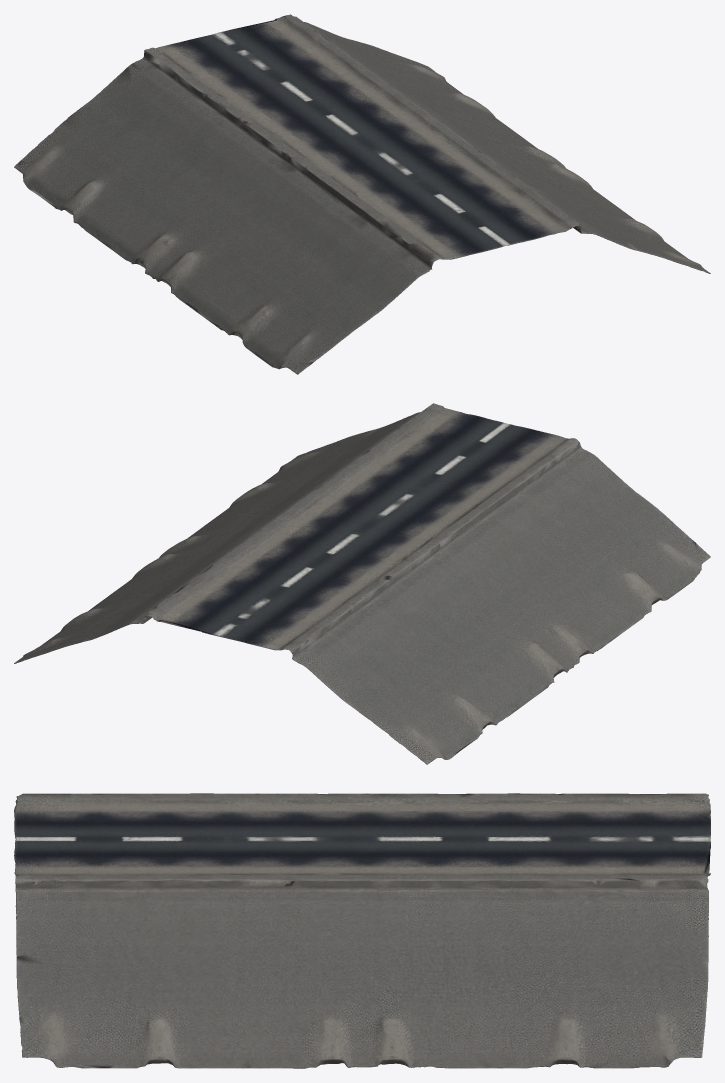
Rendered from segment-route-asphalte-abimee-v2.glb.
3 views of the same model, one above another, from view 1: azimuth 30°, elevation 25°; view 2: azimuth 150°, elevation 25°; view 3: azimuth 270°, elevation 25° (orthographic). The views are drawn at different scales.
Visible parts, largest first — view 1: Mesh_0.001; view 2: Mesh_0.001; view 3: Mesh_0.001.
Part boxes in pixels (x1,y1,x2,y2): Mesh_0.001: (14,14,710,374); Mesh_0.001: (14,403,710,764); Mesh_0.001: (14,793,710,1068).
Size of the model in its own units: 14.64 by 3 by 17.44.
1 material, 1 textured.
